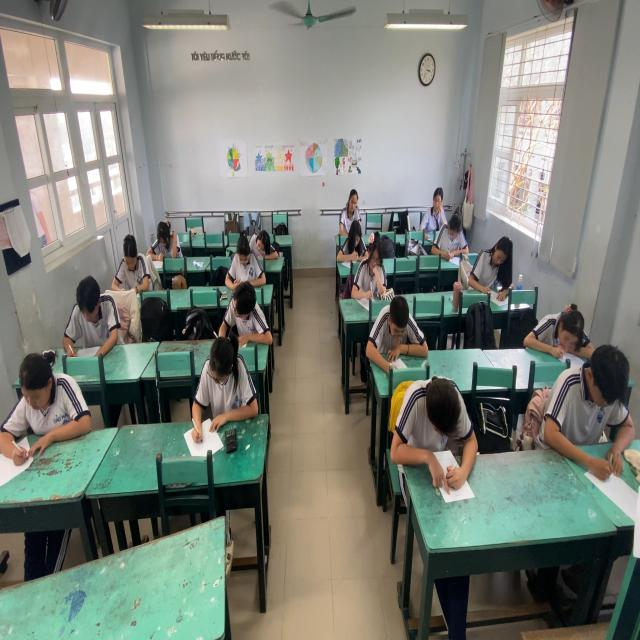cheating: (222, 272, 266, 346), (424, 182, 448, 233)
not_cheating: (553, 344, 635, 489), (390, 370, 482, 496), (9, 342, 82, 442), (197, 339, 254, 415), (64, 276, 112, 356), (531, 300, 593, 358), (377, 292, 422, 369), (347, 225, 391, 302), (473, 229, 514, 298), (426, 202, 470, 259), (112, 227, 144, 299), (229, 238, 265, 296), (147, 208, 176, 258), (340, 222, 371, 261), (335, 184, 362, 222), (246, 220, 269, 260)
